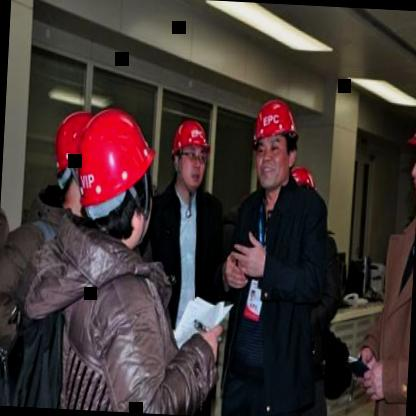helmet: (61, 103, 156, 236), (244, 91, 300, 192), (48, 107, 94, 217), (166, 112, 214, 192), (406, 87, 416, 215)
